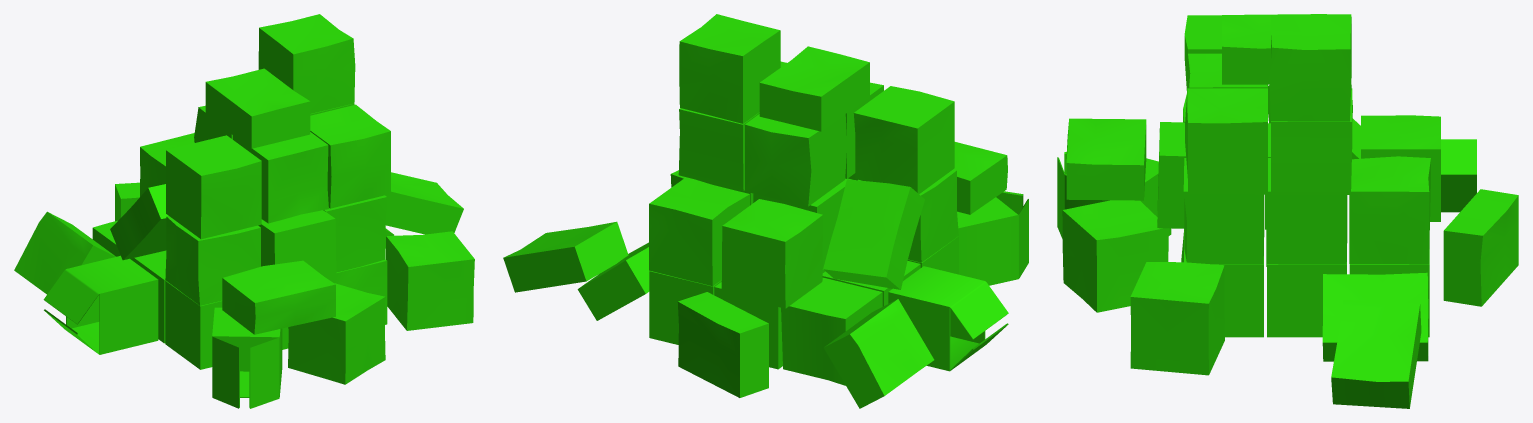
Rendered from Cardboard_Pile_05.fbx.
3 views of the same model, side by side, from view 1: azimuth 30°, elevation 25°; view 2: azimuth 150°, elevation 25°; view 3: azimuth 270°, elevation 25° (orthographic). The views are drawn at different scales.
Parts seen in each view (by area): view 1: Cardboard_Pile_05; view 2: Cardboard_Pile_05; view 3: Cardboard_Pile_05.
Part boxes in pixels (bbox=[...]): Cardboard_Pile_05: bbox=[14, 14, 474, 408]; Cardboard_Pile_05: bbox=[503, 14, 1028, 408]; Cardboard_Pile_05: bbox=[1057, 14, 1518, 408].
Bounding box in the file's own units: 266 × 155 × 222.
